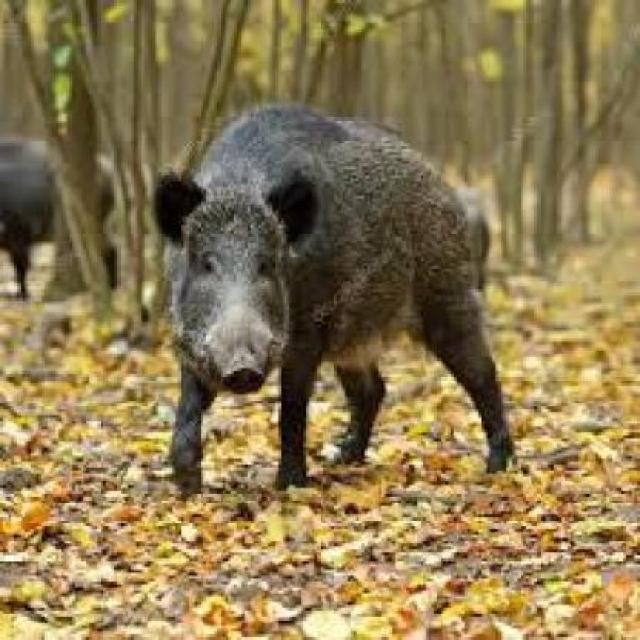wildboar: (141, 92, 528, 506)
